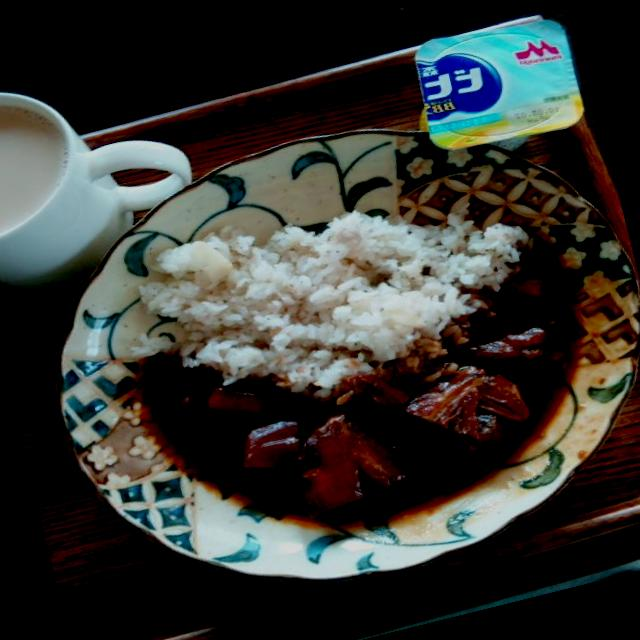Beef Curry: (112, 261, 630, 558)
